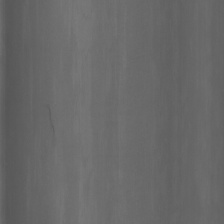water_spot: (42, 94, 60, 151)
